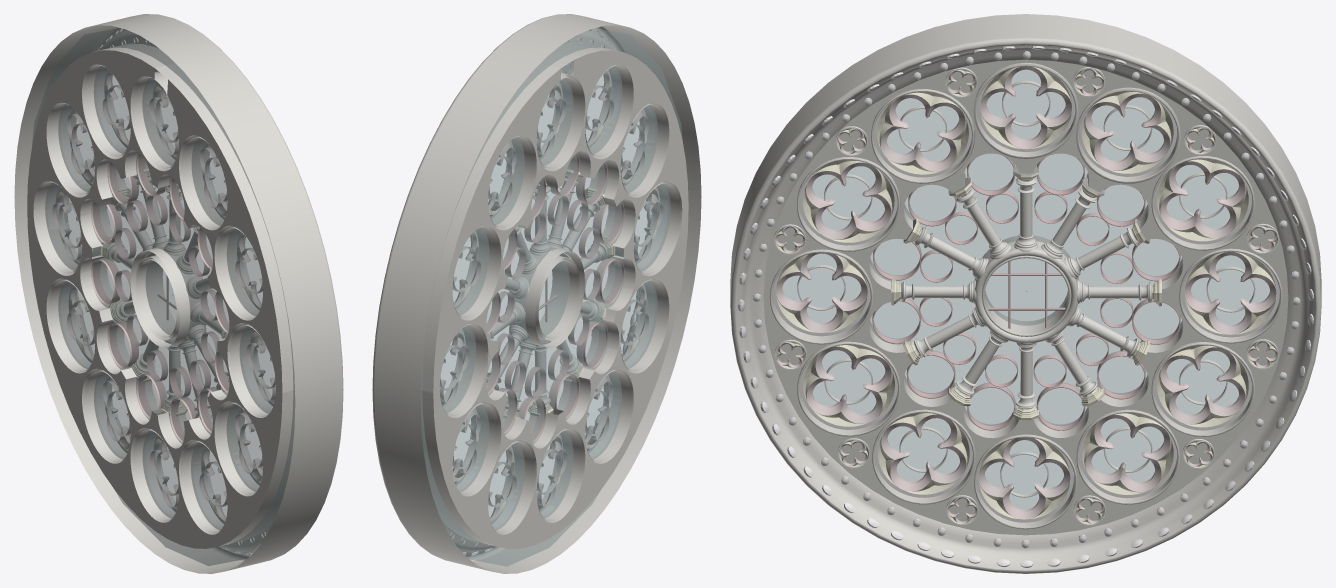
The model's file is Roseton_2021_f.fbx.
3 views of the same model, side by side, from view 1: azimuth 30°, elevation 25°; view 2: azimuth 150°, elevation 25°; view 3: azimuth 270°, elevation 25° (orthographic). The views are drawn at different scales.
Parts seen in each view (by area): view 1: CUERPO1, CRISTAL, OJOS; view 2: CUERPO1, CRISTAL, OJOS; view 3: CUERPO1, CRISTAL, OJOS.
Part boxes in pixels (bbox=[...]): CUERPO1: bbox=[14, 14, 343, 573]; CRISTAL: bbox=[27, 28, 295, 565]; OJOS: bbox=[47, 66, 275, 528]; CUERPO1: bbox=[372, 14, 701, 573]; CRISTAL: bbox=[420, 28, 682, 566]; OJOS: bbox=[439, 67, 668, 528]; CUERPO1: bbox=[730, 14, 1321, 573]; CRISTAL: bbox=[772, 69, 1269, 509]; OJOS: bbox=[772, 66, 1279, 522].
Size of the model in its own units: 1.35 by 13.2 by 13.2.
